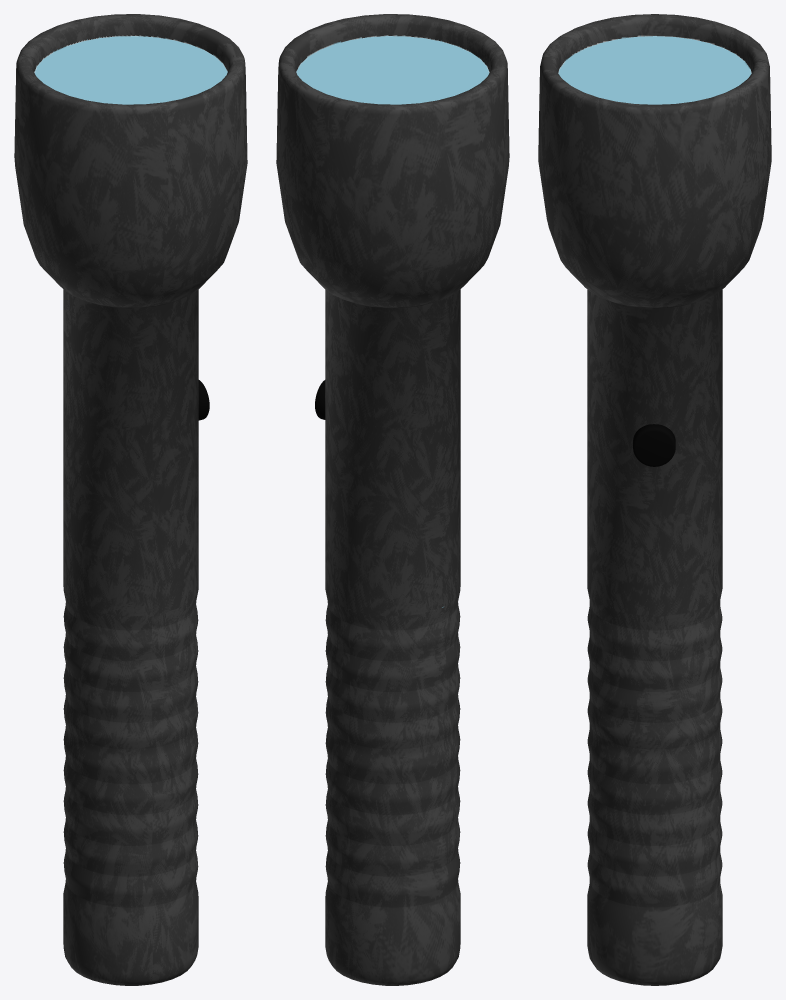
The model's file is linterna.fbx.
The picture shows the model from 3 angles, left to right: view 1: azimuth 30°, elevation 25°; view 2: azimuth 150°, elevation 25°; view 3: azimuth 270°, elevation 25°; orthographic projection.
Visible parts, largest first — view 1: Circle.001; view 2: Circle.001; view 3: Circle.001.
Part boxes in pixels (x1,y1,x2,y2): Circle.001: (14, 14, 247, 985); Circle.001: (276, 14, 509, 985); Circle.001: (538, 14, 771, 985).
Size of the model in its own units: 3.45 by 14.67 by 3.45.
1 material, 1 textured.
